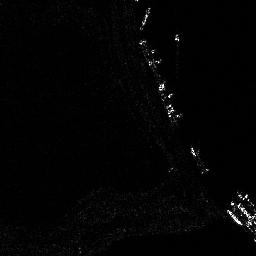ship: (138, 6, 151, 29)
